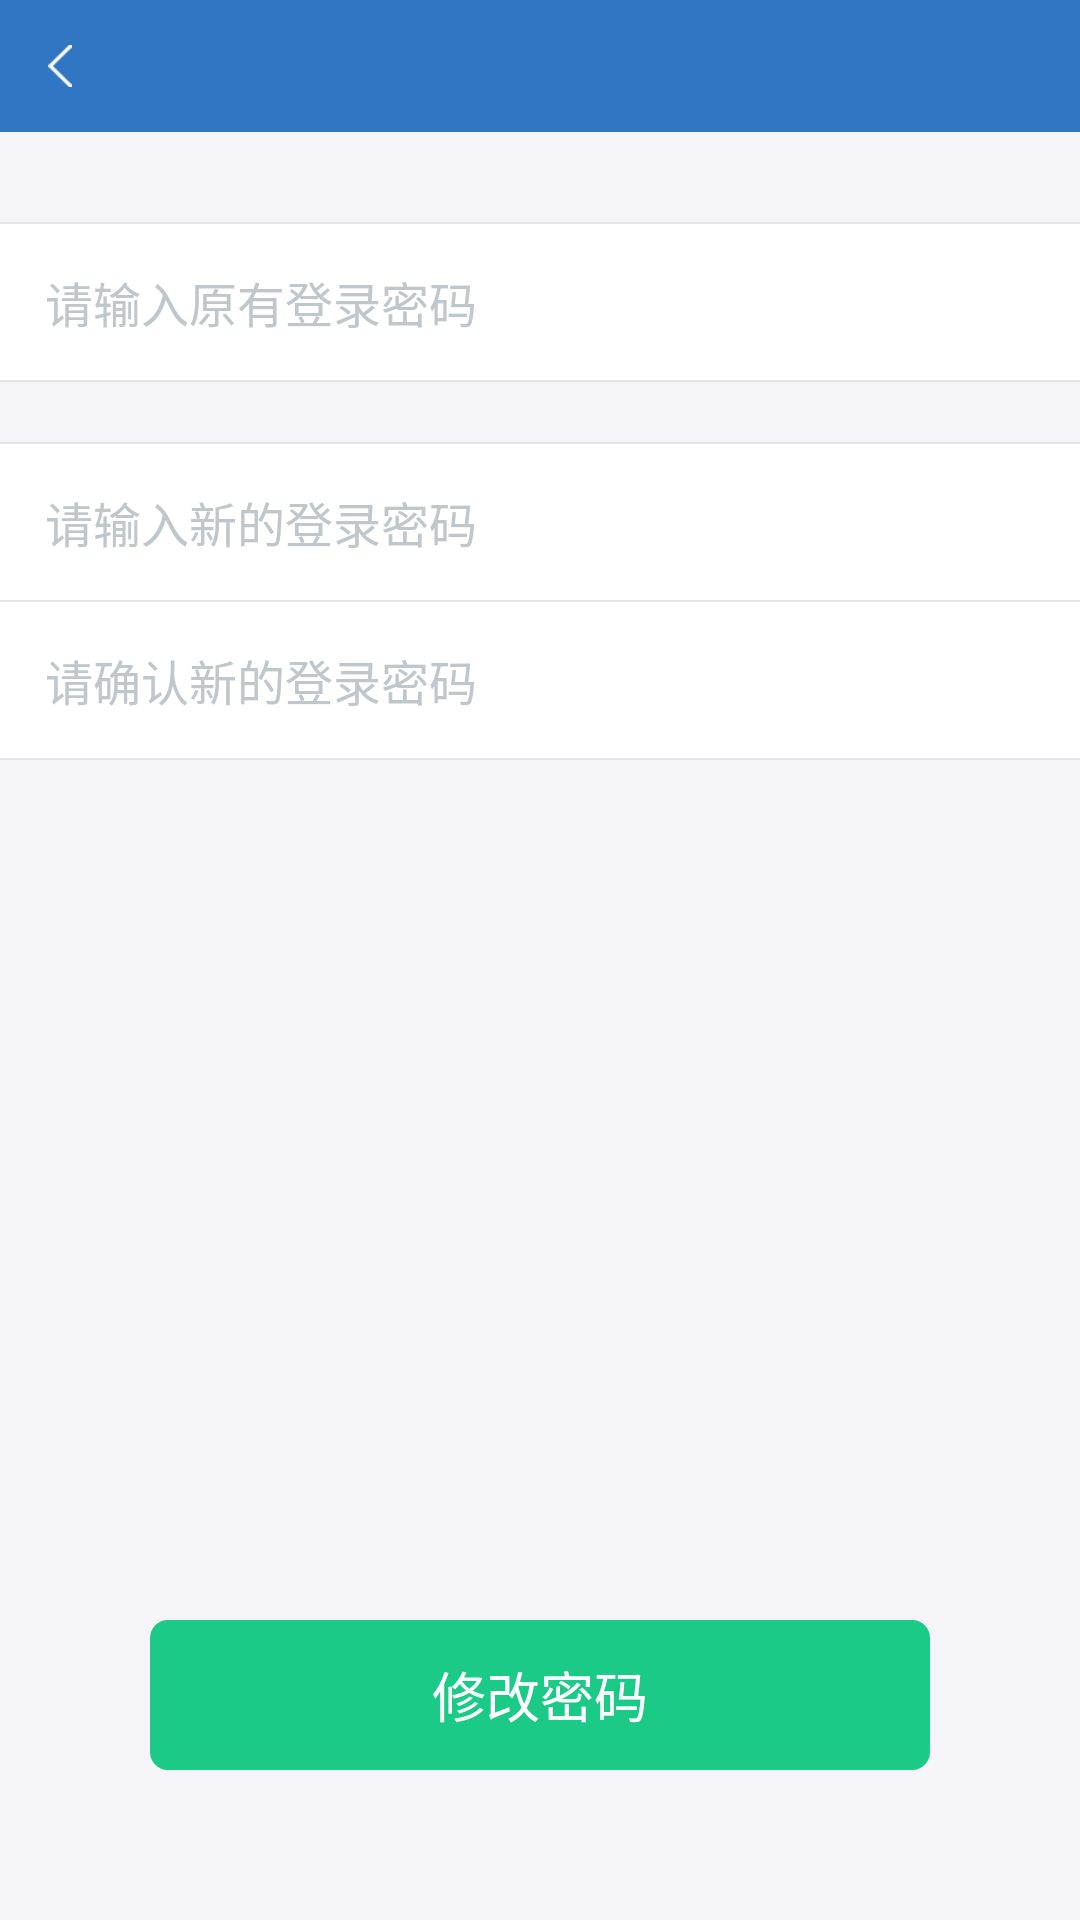

Screen size 1080px x 1920px. Icon name, then its box in pixels as [x1, y1, x2, y2]:
back: [48, 45, 72, 87]
